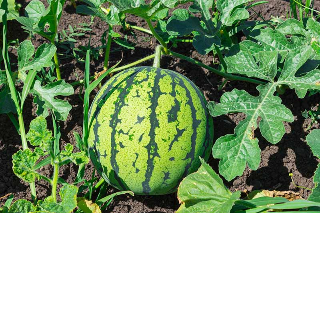dua_hau: (85, 63, 217, 201)
